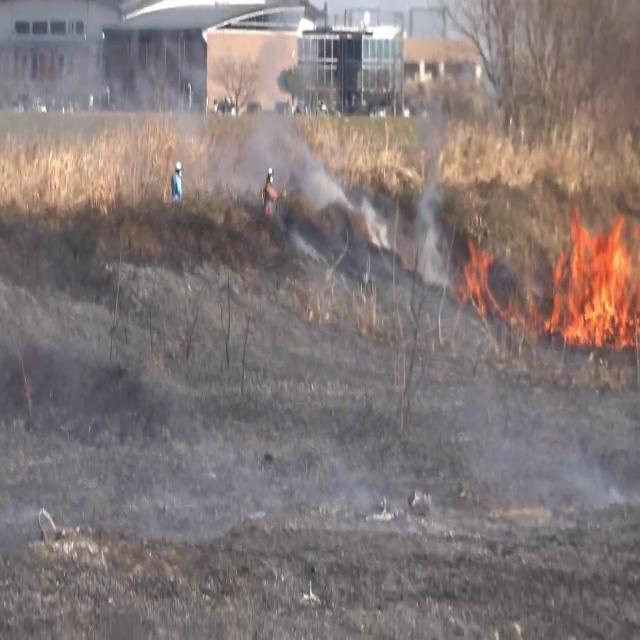Fire: (542, 204, 640, 352), (457, 235, 499, 316)
Smoke: (237, 49, 332, 234)
